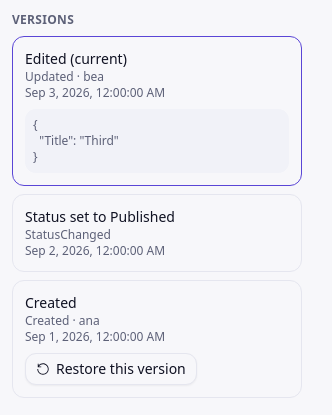
Test: the version rail › previews the current version first and another after it is chosen
Expected: the text "Edited (current)" is shown, [25,49,127,68]
Expected: the text with test id "version-preview" shows "Third", [33,116,119,165]
Click the button "Created Created · ana Sep 1, 2026, 12:00:00 AM": (51, 302) [25,293,289,345]
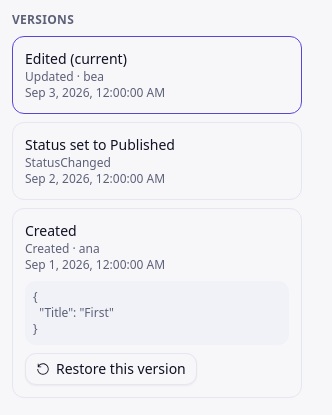
Expected: the number of elements with test id "version-preview" is 1, [25,281,289,345]
Now the text with test id "version-preview" shows "First", box [33,288,114,337]
Now the text with test id "version-preview" no longer shows "Third", box [25,281,289,345]
